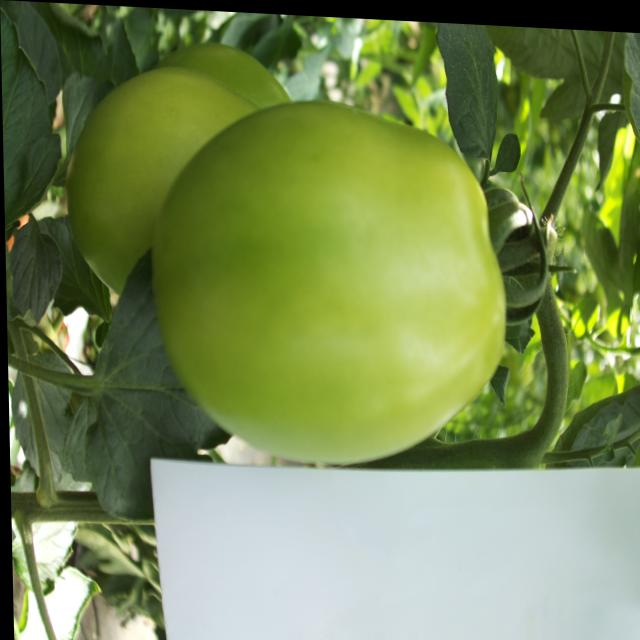yesil: (52, 23, 511, 465)
